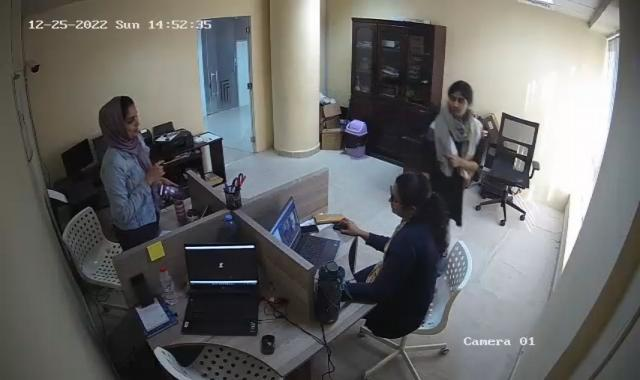no_hairnet: (100, 96, 140, 142), (391, 173, 432, 217), (448, 80, 473, 118)
